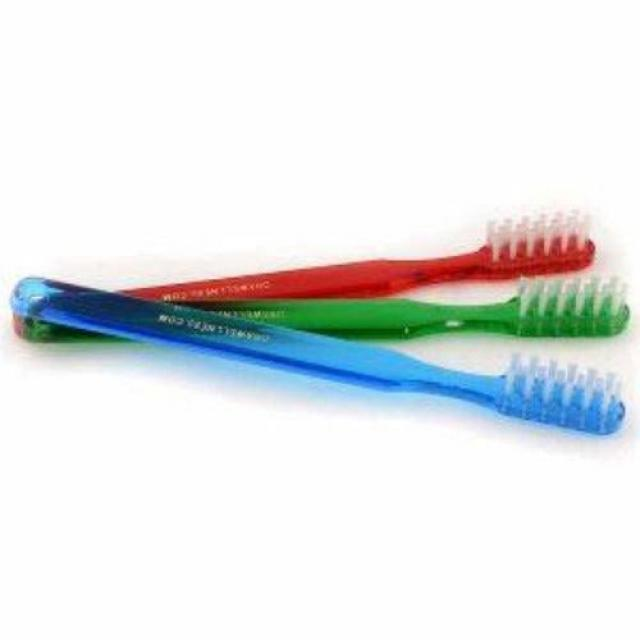toothbrush: (14, 277, 624, 434), (33, 213, 596, 314), (21, 283, 634, 340)
